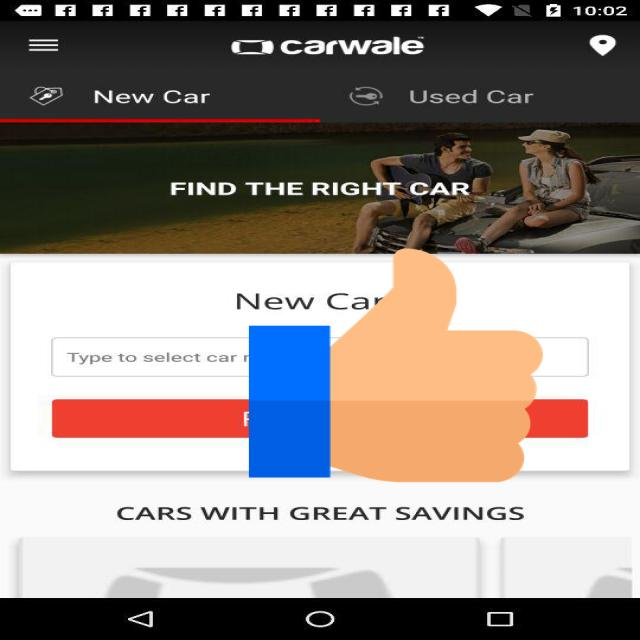privacy zuckering: (249, 243, 543, 488)
